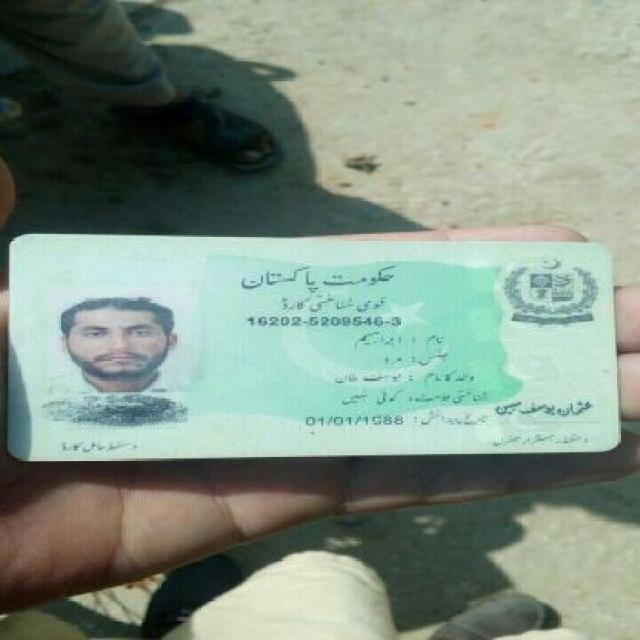Front: (4, 220, 622, 463)
